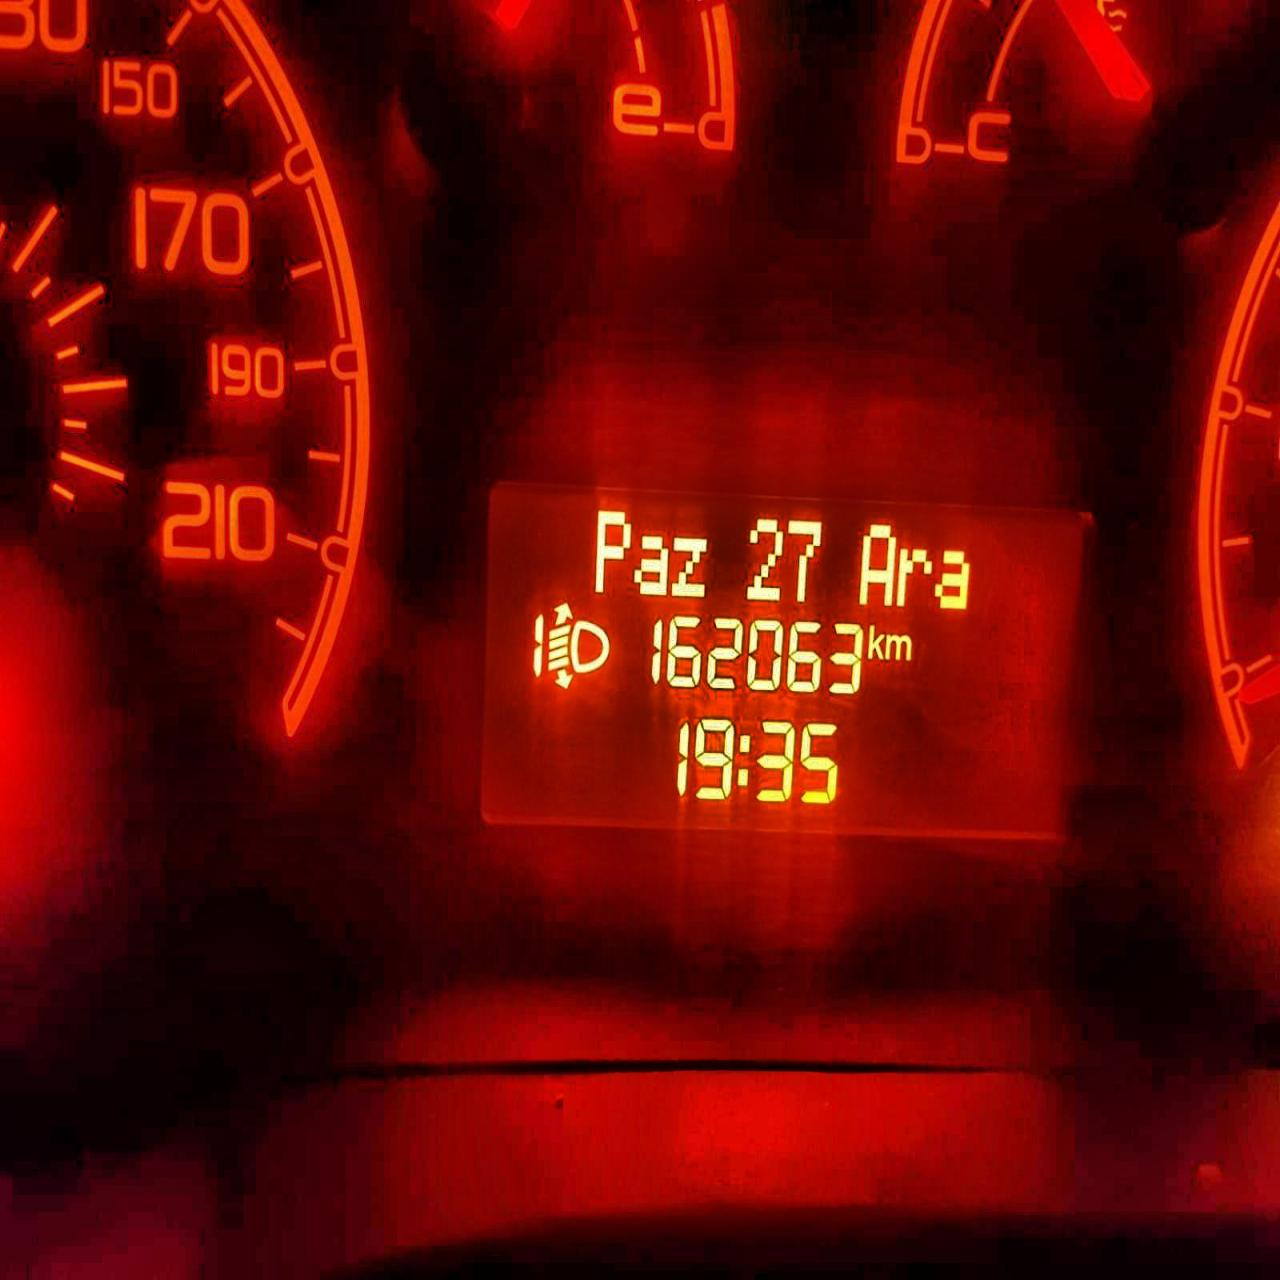0: (744, 617, 783, 693)
1: (669, 715, 689, 803), (529, 604, 544, 681), (649, 613, 661, 692)
2: (706, 613, 744, 694), (747, 512, 781, 602)
3: (756, 715, 794, 805), (830, 617, 862, 697)
5: (801, 716, 838, 809)
6: (667, 613, 701, 690), (788, 617, 821, 694)
7: (787, 516, 819, 604)
9: (694, 713, 730, 805)
X: (856, 520, 897, 607), (594, 505, 632, 595), (670, 531, 709, 600), (633, 526, 669, 598), (937, 543, 972, 612), (896, 543, 931, 608), (735, 729, 753, 790), (885, 631, 912, 665), (866, 621, 885, 662)
odometer: (485, 476, 1089, 858)
